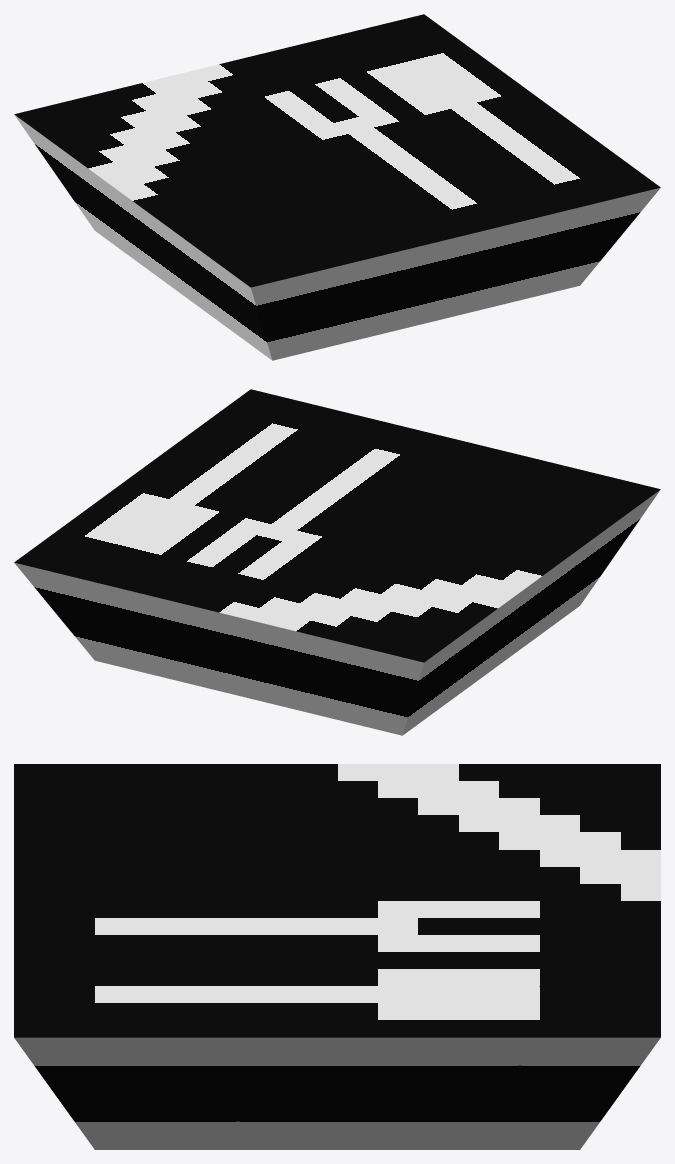
File: foodbox.gltf
The picture shows the model from 3 angles, top to bottom: view 1: azimuth 30°, elevation 25°; view 2: azimuth 150°, elevation 25°; view 3: azimuth 270°, elevation 25°; orthographic projection. The views are drawn at different scales.
Parts seen in each view (by area): view 1: cuboid; view 2: cuboid; view 3: cuboid.
Part boxes in pixels (x1=…): cuboid: x1=14, y1=14, x2=660, y2=360; cuboid: x1=14, y1=389, x2=660, y2=735; cuboid: x1=14, y1=764, x2=660, y2=1149.
Size of the model in its own units: 1 by 0.25 by 1.
1 material, 1 textured.
